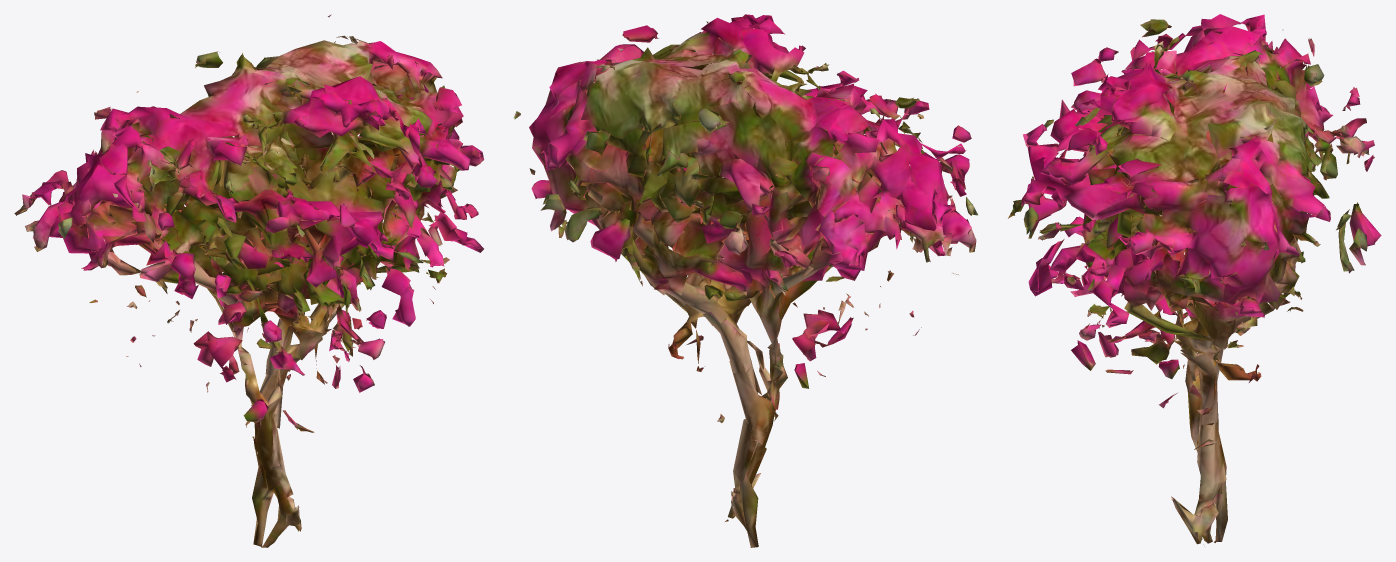
The model's file is base_basic_pbr.glb.
The picture shows the model from 3 angles, left to right: view 1: azimuth 30°, elevation 25°; view 2: azimuth 150°, elevation 25°; view 3: azimuth 270°, elevation 25°; orthographic projection. The views are drawn at different scales.
Visible parts, largest first — view 1: model; view 2: model; view 3: model.
Part boxes in pixels (x1,y1,x2,y2): model: (14,14,484,547); model: (513,14,977,547); model: (1008,14,1381,544).
Size of the model in its own units: 1.67 by 1.79 by 1.22.
Materials: 1 (1 with a texture image).
